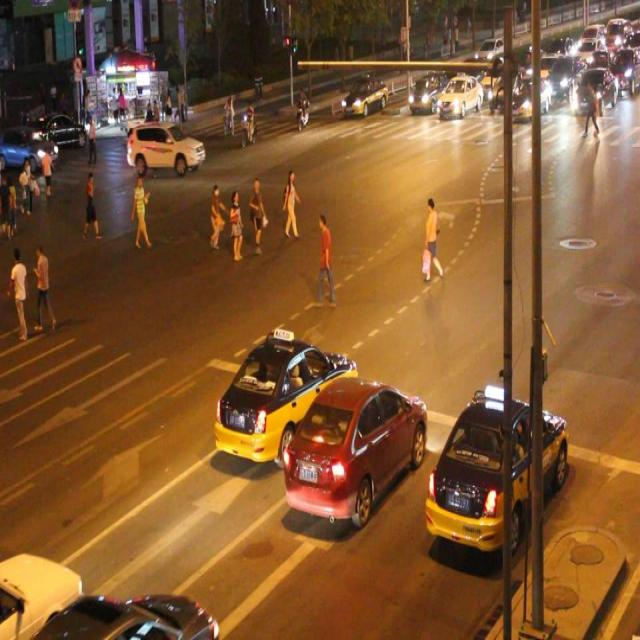car: (424, 393, 565, 552), (281, 377, 425, 524), (216, 336, 353, 456), (32, 583, 217, 640), (1, 545, 78, 640), (126, 122, 204, 172), (1, 124, 57, 170), (343, 73, 386, 119), (437, 74, 479, 119), (408, 72, 444, 112)
